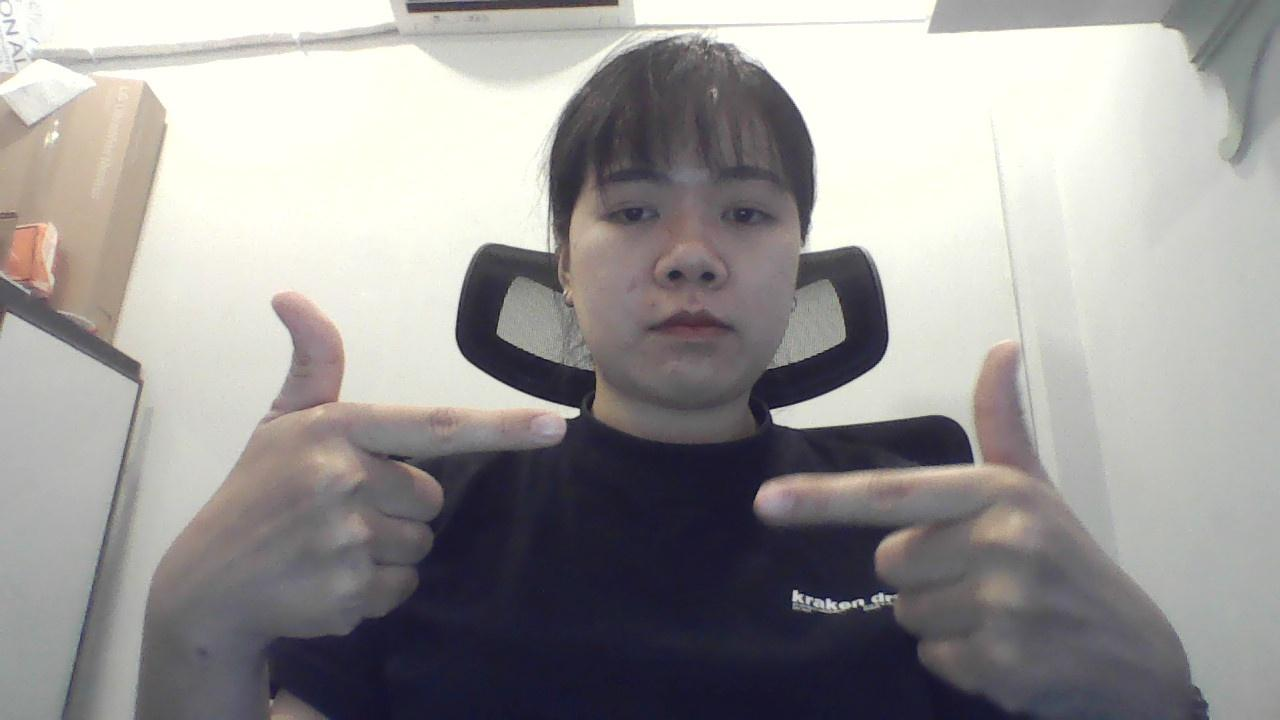G: (121, 268, 571, 676), (746, 332, 1210, 700)
